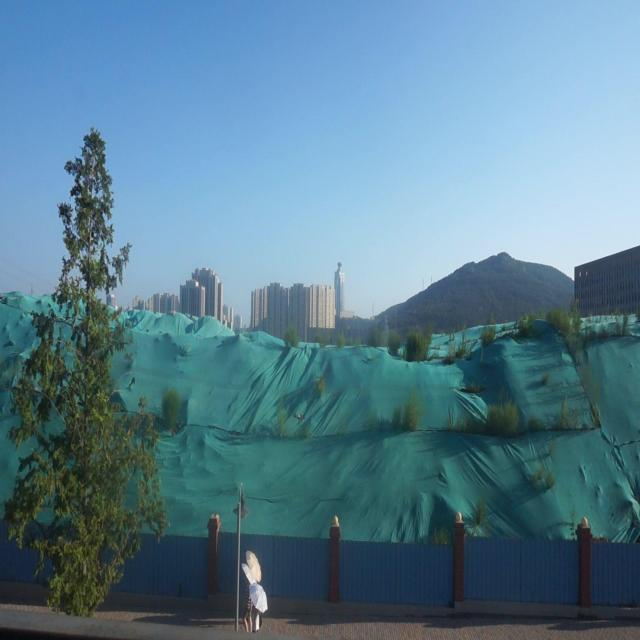UAV: (293, 414, 305, 421)
